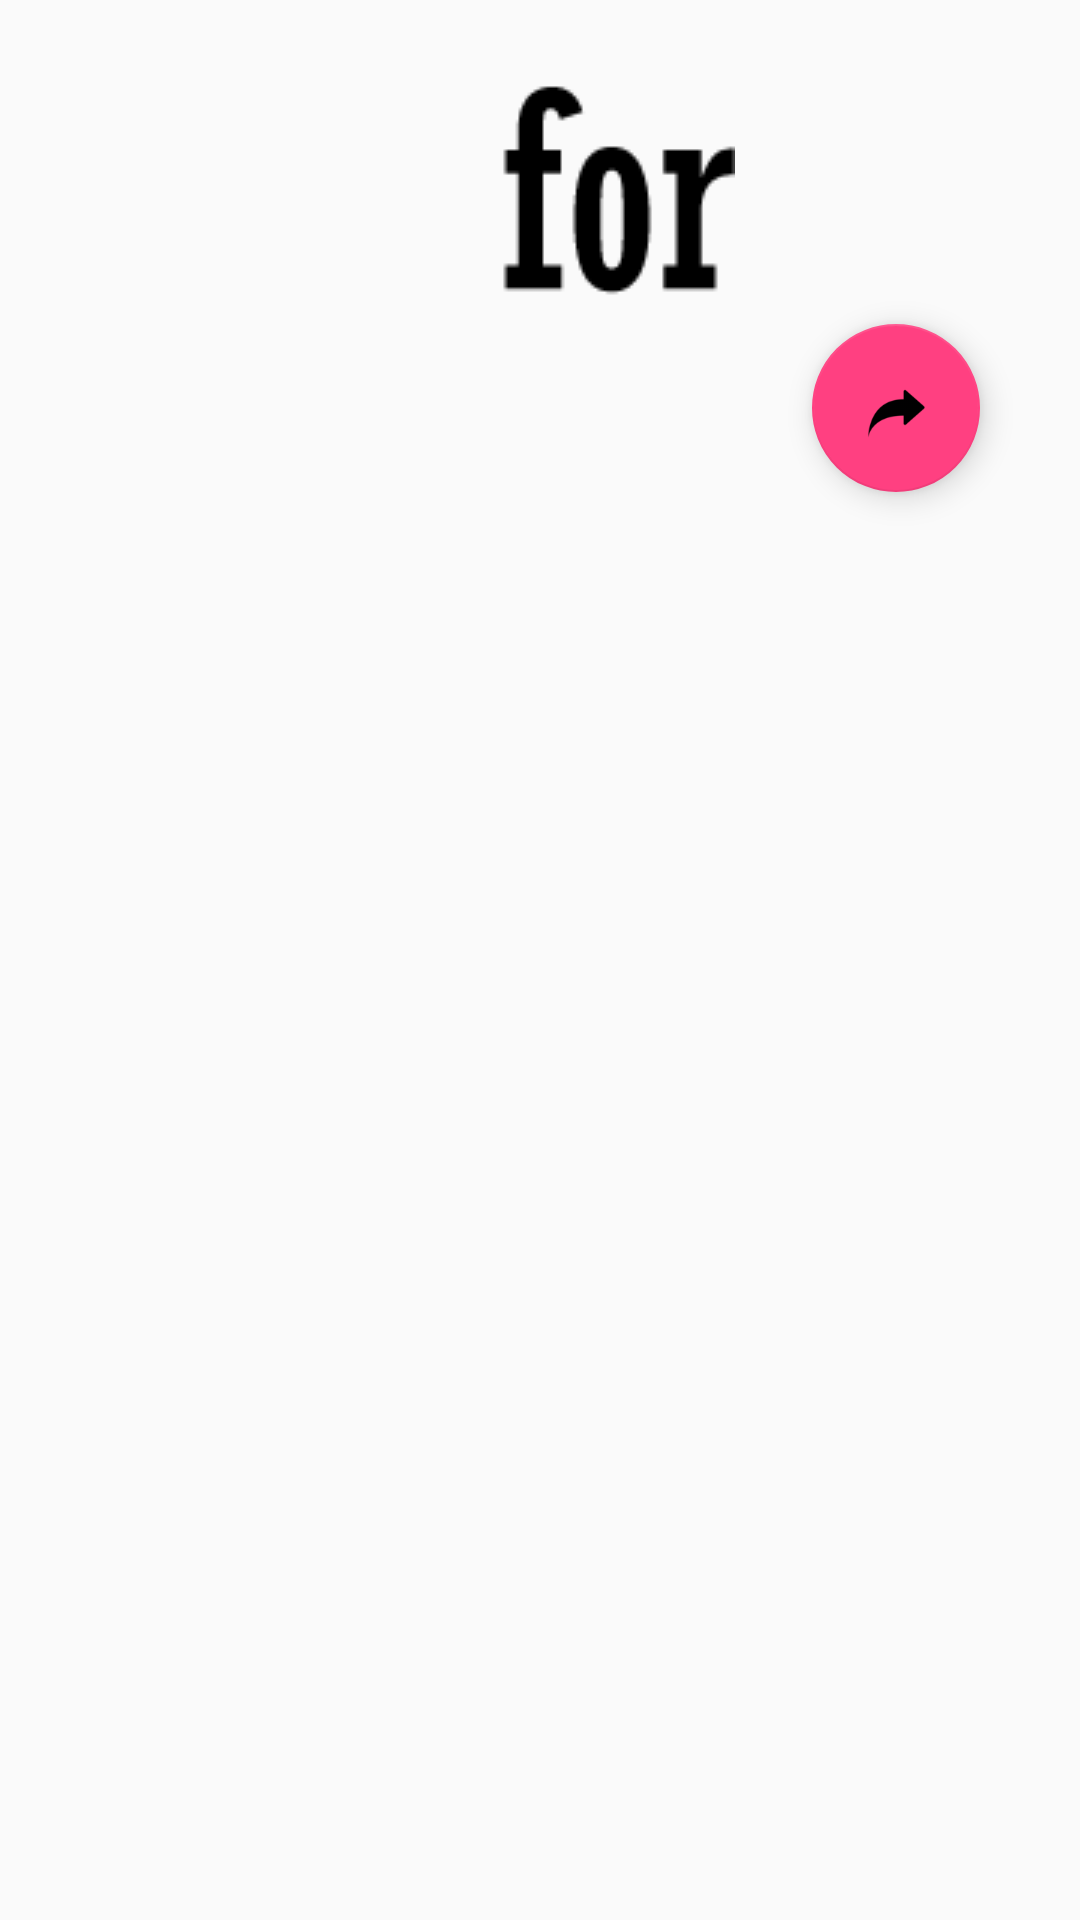

Screen size 1080 x 1920. Icon name, then its box in pixels as (left=x1, top=y1, right=x2, bottom=y2):
arrow right: (left=812, top=324, right=980, bottom=492)
